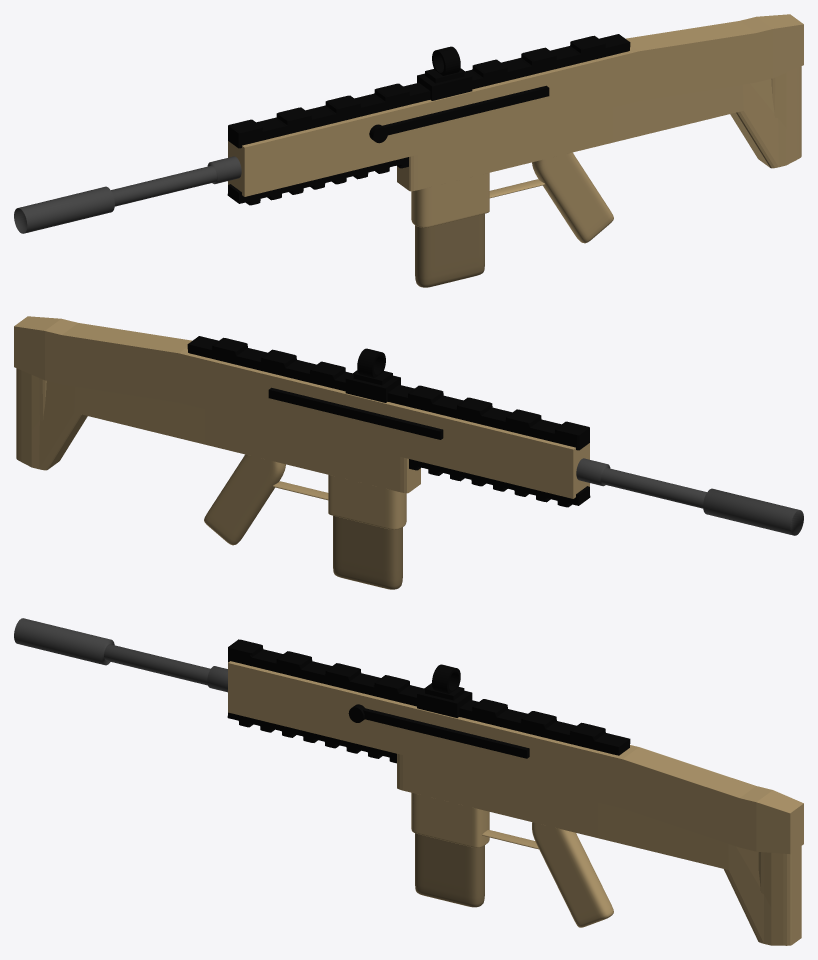
File: fnscar.glb
3 views of the same model, one above another, from view 1: azimuth 30°, elevation 25°; view 2: azimuth 150°, elevation 25°; view 3: azimuth 330°, elevation 25° (orthographic).
Visible parts, largest first — view 1: Body, Underbody, Rail, Grip and Magazine Well, Barrel, Magazine, Bolt, Sight; view 2: Body, Underbody, Rail, Grip and Magazine Well, Barrel, Magazine, Bolt, Sight; view 3: Body, Underbody, Rail, Grip and Magazine Well, Barrel, Magazine, Bolt, Sight.
Boxes of the visible parts, box(x1,y1,x2,y2) form: Body: box(228, 14, 803, 196); Underbody: box(397, 66, 801, 191); Rail: box(227, 34, 630, 205); Grip and Magazine Well: box(411, 152, 613, 243); Barrel: box(14, 156, 241, 233); Magazine: box(415, 214, 484, 287); Bolt: box(382, 85, 549, 135); Sight: box(417, 46, 472, 100); Body: box(14, 316, 589, 498); Underbody: box(16, 368, 420, 493); Rail: box(187, 336, 590, 507); Grip and Magazine Well: box(204, 454, 406, 545); Barrel: box(576, 458, 803, 535); Magazine: box(333, 516, 402, 589); Bolt: box(268, 387, 443, 439); Sight: box(345, 348, 400, 402); Body: box(228, 661, 803, 853); Underbody: box(397, 754, 801, 945); Rail: box(227, 639, 630, 763); Grip and Magazine Well: box(411, 792, 613, 927); Barrel: box(14, 618, 227, 692); Magazine: box(415, 833, 484, 907); Bolt: box(363, 708, 529, 758); Sight: box(417, 664, 472, 717).
Bounding box in the file's own units: 9.18 × 2.62 × 0.4779.
